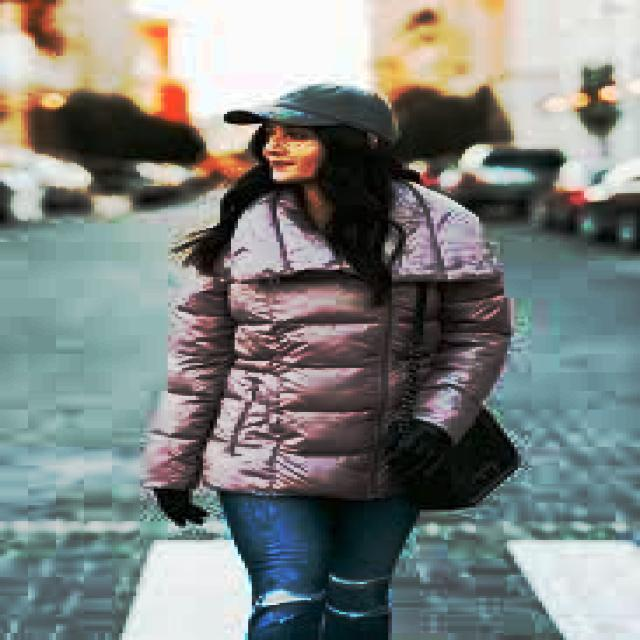TOPI: (217, 74, 406, 156)
